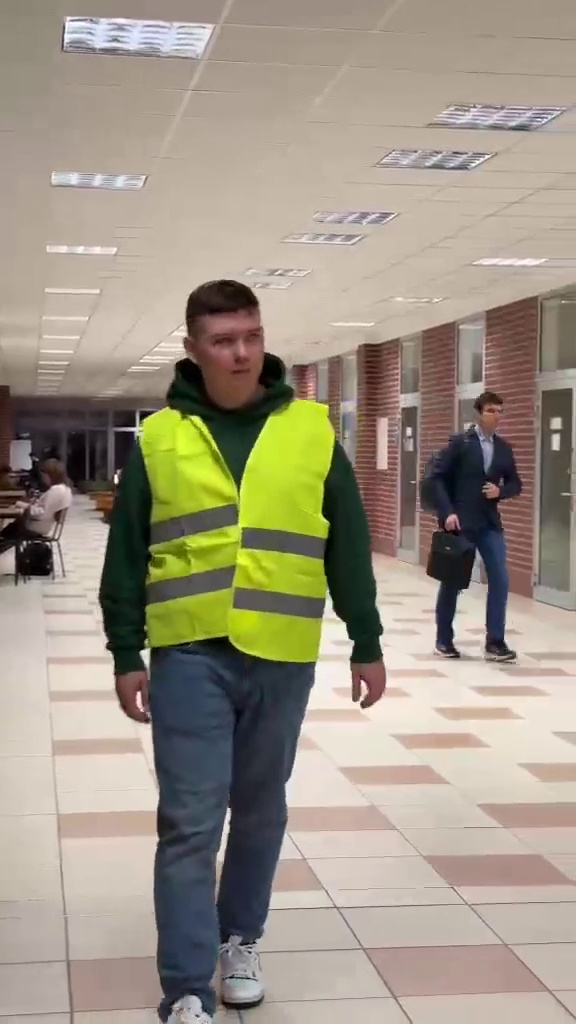no vest: (419, 383, 531, 683), (0, 453, 81, 585)
vest: (114, 283, 383, 1014)
